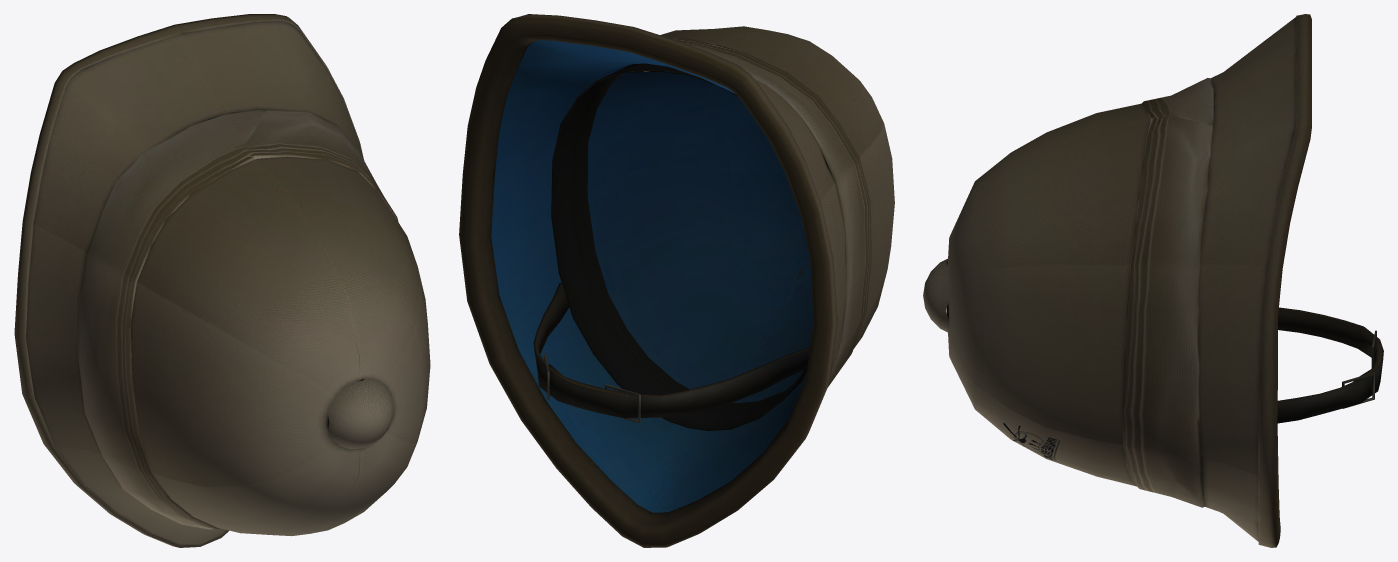
The picture shows the model from 3 angles, left to right: view 1: azimuth 30°, elevation 25°; view 2: azimuth 150°, elevation 25°; view 3: azimuth 270°, elevation 25°; orthographic projection. The views are drawn at different scales.
Parts seen in each view (by area): view 1: BrProbkaShlem_Complete; view 2: BrProbkaShlem_Complete; view 3: BrProbkaShlem_Complete.
Boxes of the visible parts, x1,y1,x2,y2 form: BrProbkaShlem_Complete: (14, 14, 430, 547); BrProbkaShlem_Complete: (459, 14, 894, 547); BrProbkaShlem_Complete: (923, 14, 1383, 547).
Size of the model in its own units: 224 by 304 by 257.
1 material, 1 textured.
